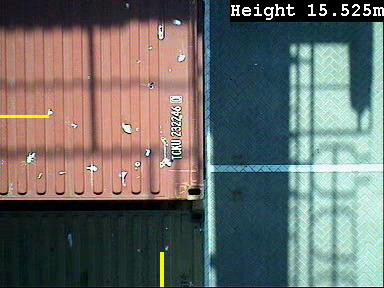groundmarker_2: (1, 152, 106, 203)
